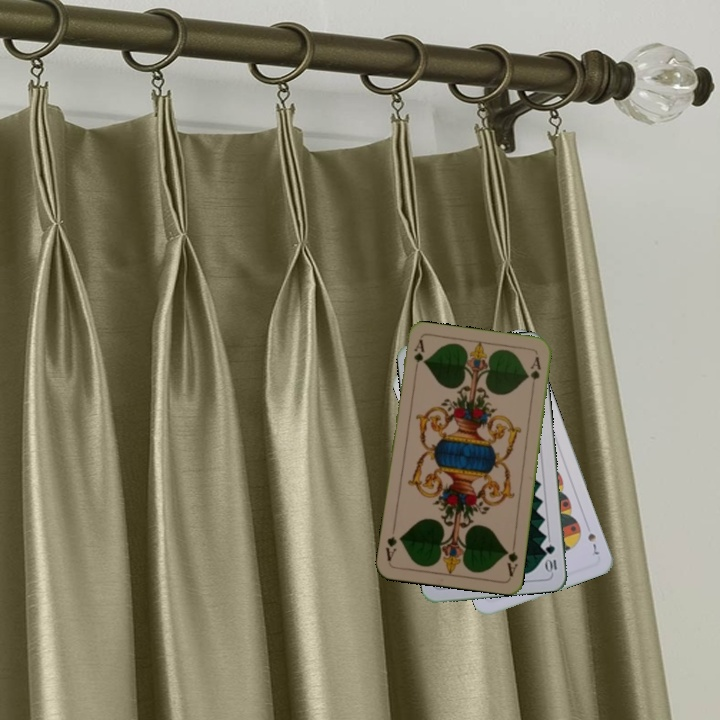G10: (542, 541, 559, 575)
GA: (502, 538, 520, 579), (410, 336, 426, 376)
S7: (584, 529, 602, 558)
